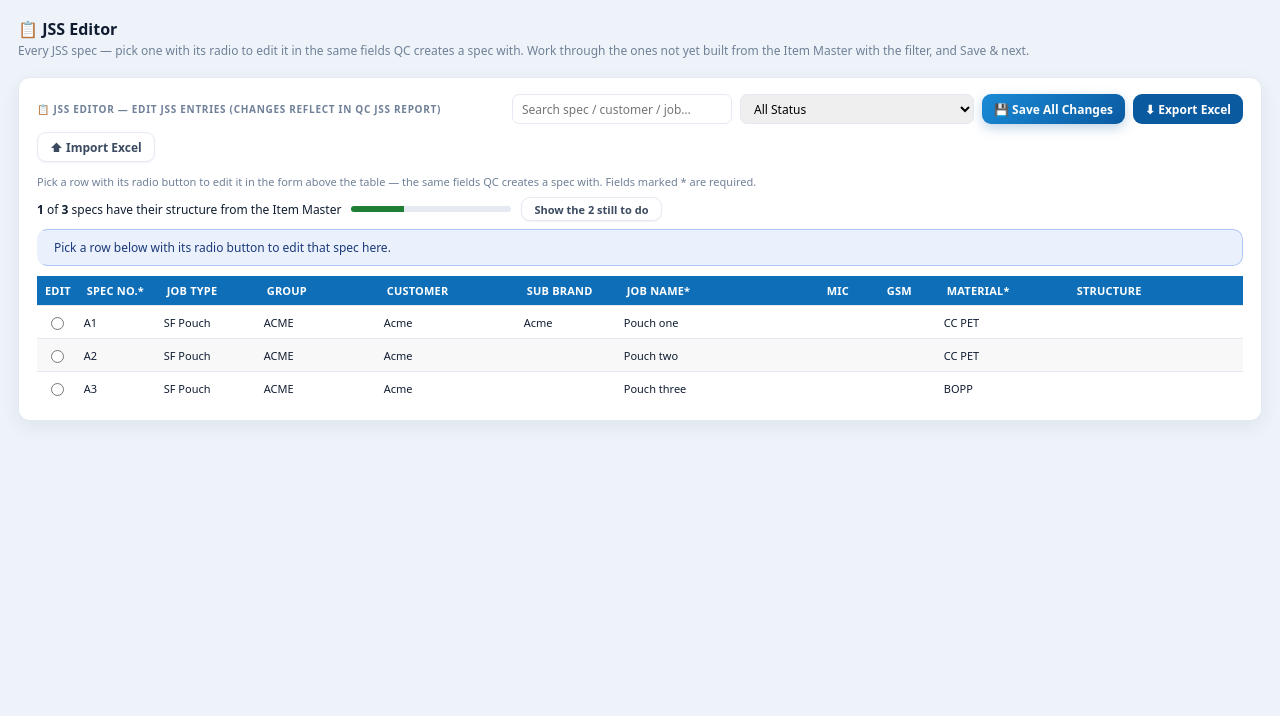
Test: the JSS editor — radio, edit, save › lists every spec with a radio and opens the picked one in the QC fields
Expected: the text "Pick a row below with its radio button" is shown, [54, 239, 391, 256]
Click the radio button named "Edit A1" at (58, 323), box [51, 317, 64, 330]
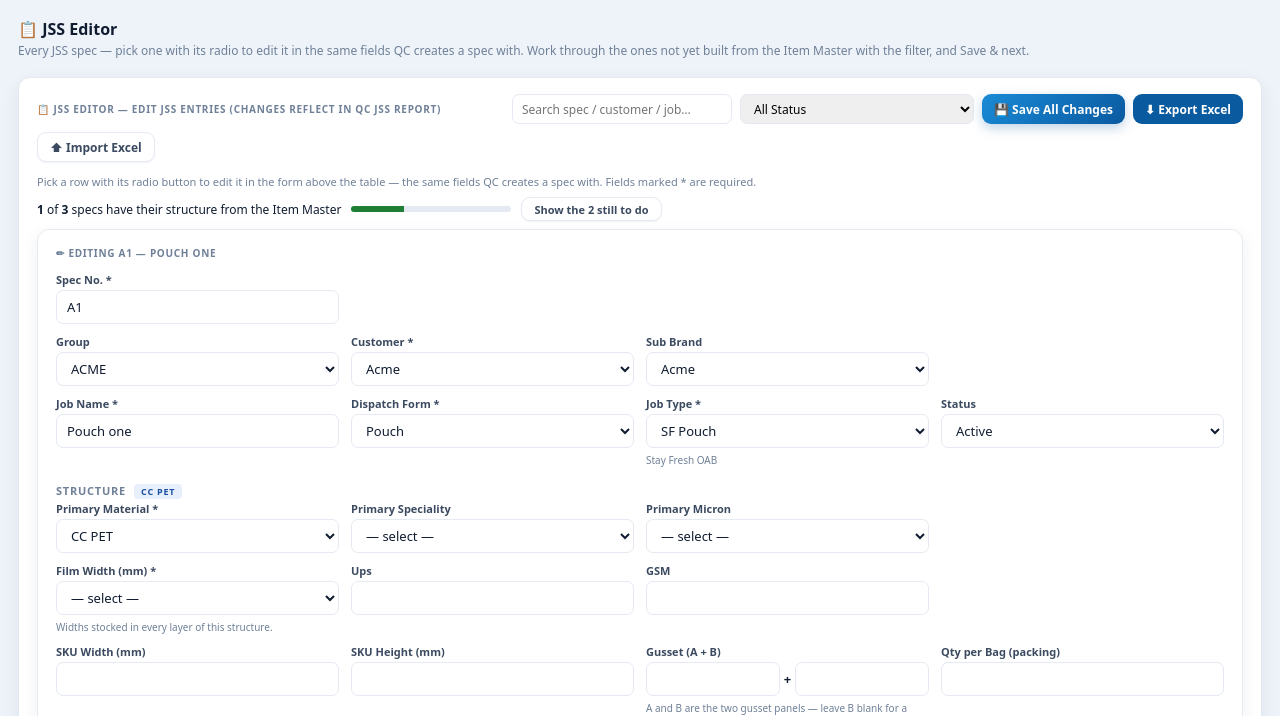
Result: the field named "Spec No." holds "A1" at [56, 290, 339, 324]
Result: the dropdown named "Primary Material" shows "CC PET" at [56, 519, 339, 553]
Result: the dropdown named "Dispatch Form" shows "Pouch" at [351, 414, 634, 448]
